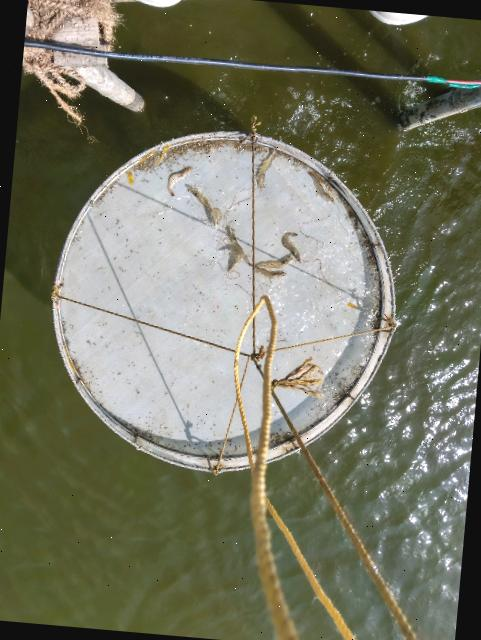shrimp: (187, 186, 221, 227), (225, 225, 247, 271), (167, 165, 193, 197), (307, 168, 332, 200), (255, 149, 275, 188), (250, 253, 295, 269), (255, 268, 287, 278)
